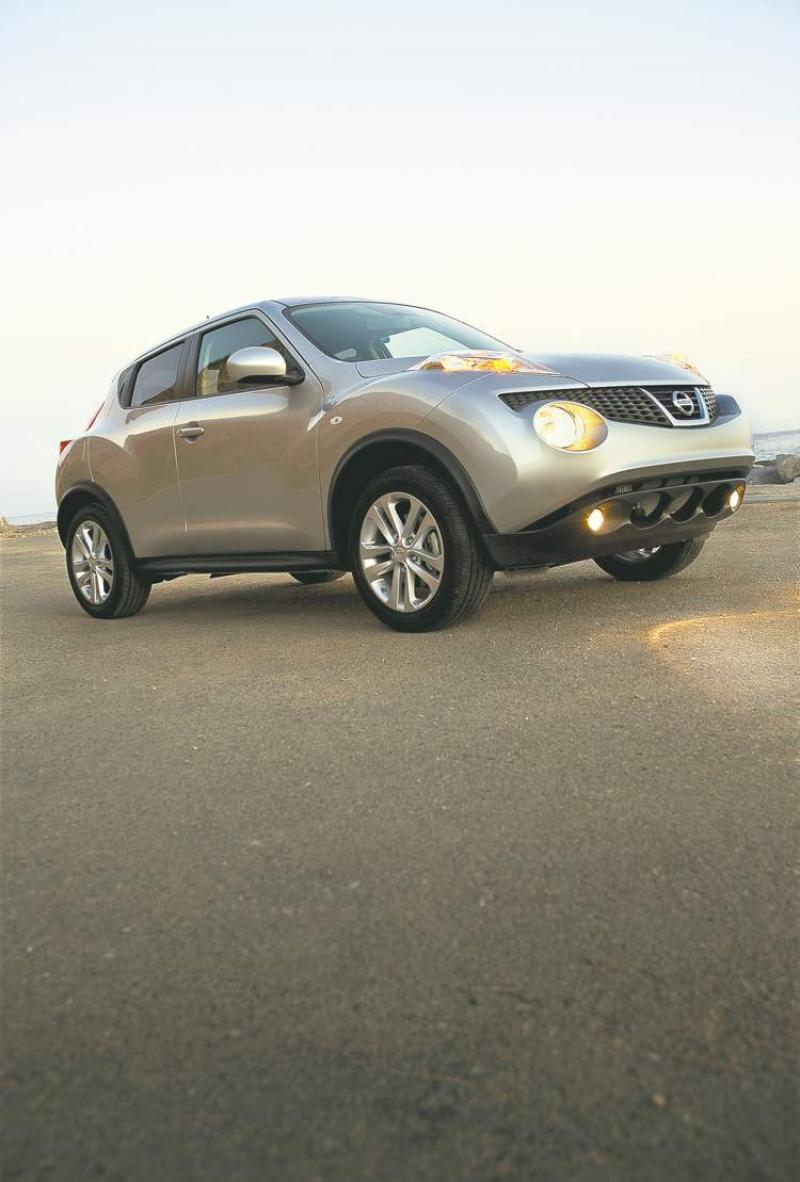Hatchback: (52, 293, 755, 633)
